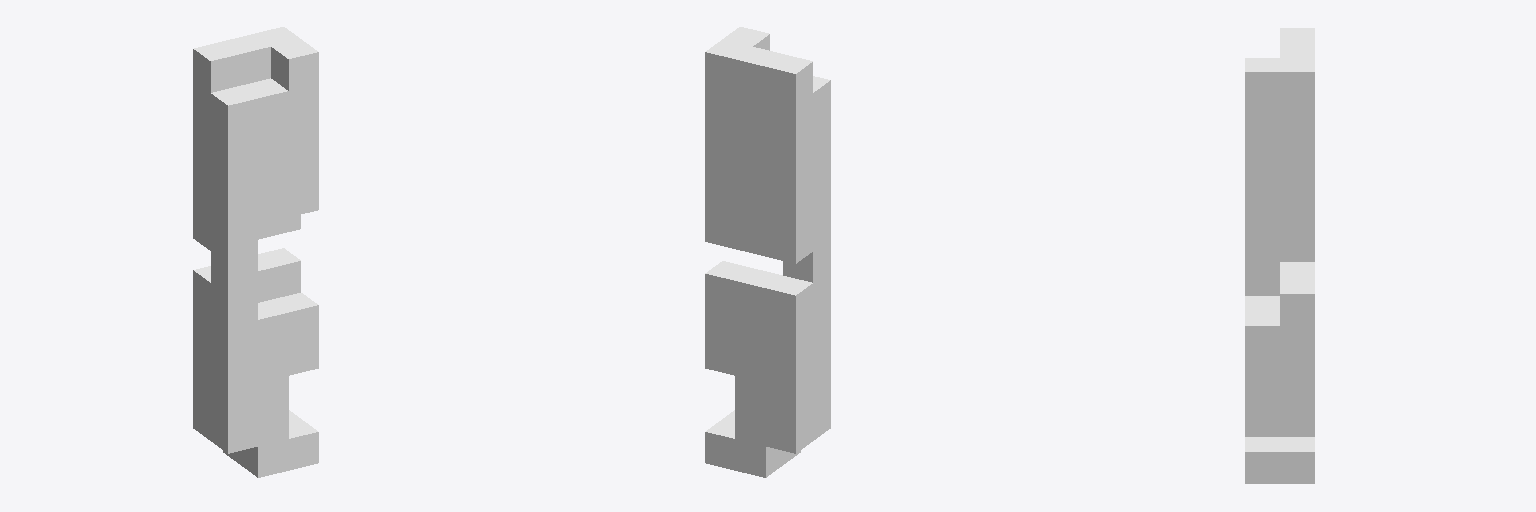
File: golemArmRight.obj
3 views of the same model, side by side, from view 1: azimuth 30°, elevation 25°; view 2: azimuth 150°, elevation 25°; view 3: azimuth 270°, elevation 25° (orthographic).
Visible parts, largest first — view 1: golemArmRight; view 2: golemArmRight; view 3: golemArmRight.
Boxes of the visible parts, x1=… form: golemArmRight: x1=193, y1=27, x2=318, y2=477; golemArmRight: x1=705, y1=27, x2=830, y2=477; golemArmRight: x1=1245, y1=28, x2=1314, y2=483.
Size of the model in its own units: 3 by 13 by 2.